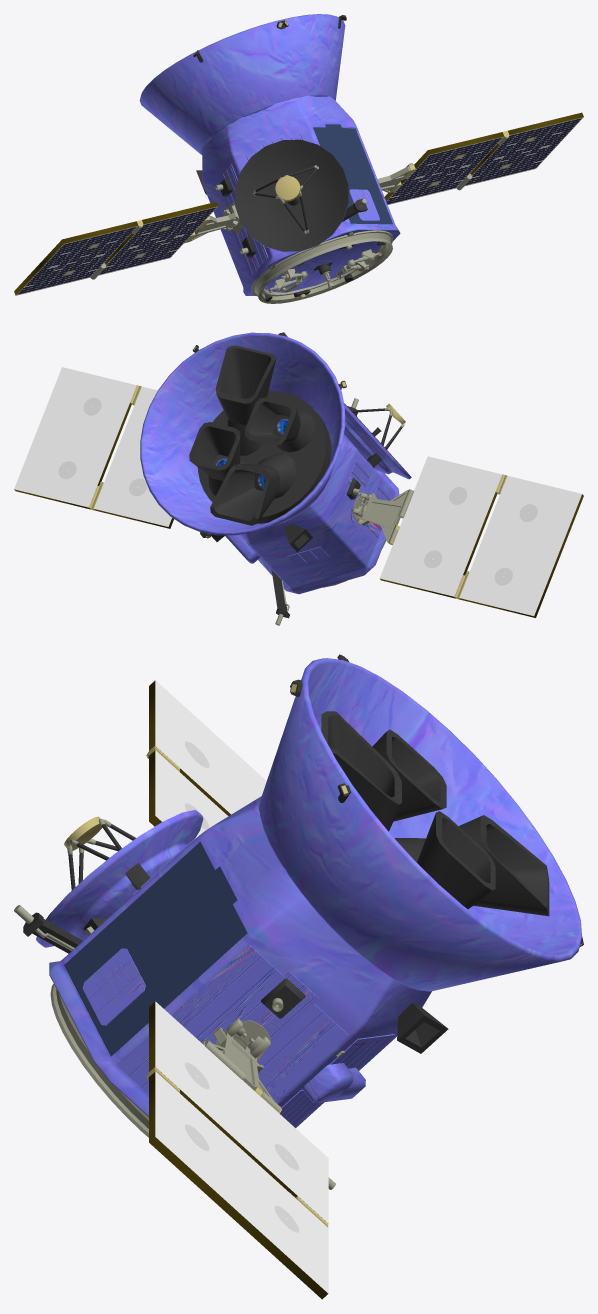
File: tess.glb
3 renders of one model, top to bottom at view 1: azimuth 30°, elevation 25°; view 2: azimuth 150°, elevation 25°; view 3: azimuth 270°, elevation 25°, orthographic. The views are drawn at different scales.
Parts seen in each view (by area): view 1: instruments, BUS, reflectors; view 2: instruments, BUS, reflectors; view 3: BUS, instruments, reflectors.
Part boxes in pixels (x1,y1,x2,y2): instruments: (14, 15, 583, 303); BUS: (139, 14, 400, 295); reflectors: (222, 131, 379, 276); instruments: (14, 332, 583, 625); BUS: (140, 332, 411, 594); reflectors: (239, 435, 392, 572); BUS: (36, 658, 581, 1127); instruments: (14, 654, 583, 1299); reflectors: (82, 838, 394, 1125).
Size of the model in its own units: 100 by 52.31 by 52.73.
Materials: 5 (3 with a texture image).
